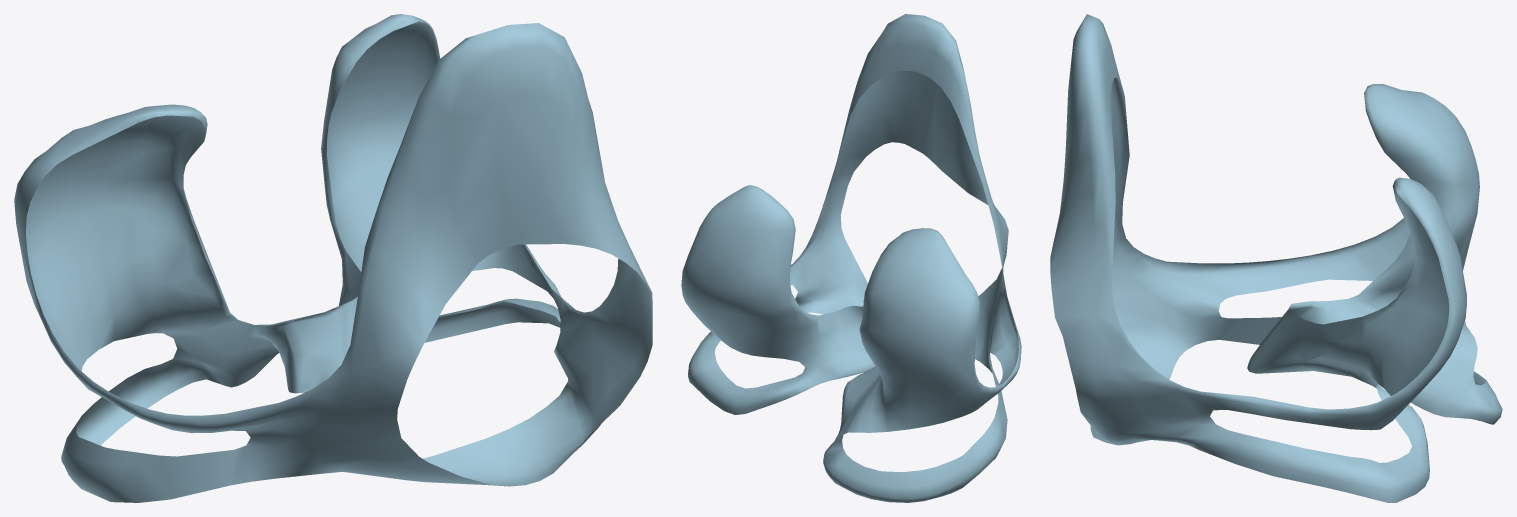
File: articulacoes-articular-capsule-of-knee-joint-l.glb
The picture shows the model from 3 angles, left to right: view 1: azimuth 30°, elevation 25°; view 2: azimuth 150°, elevation 25°; view 3: azimuth 270°, elevation 25°; orthographic projection. The views are drawn at different scales.
Visible parts, largest first — view 1: Articular capsule of knee joint.l; view 2: Articular capsule of knee joint.l; view 3: Articular capsule of knee joint.l.
Boxes of the visible parts, x1,y1,x2,y2 form: Articular capsule of knee joint.l: (14, 14, 652, 502); Articular capsule of knee joint.l: (681, 14, 1021, 502); Articular capsule of knee joint.l: (1050, 14, 1502, 502).
Bounding box in the file's own units: 0.0787 × 0.0859 × 0.0761.
